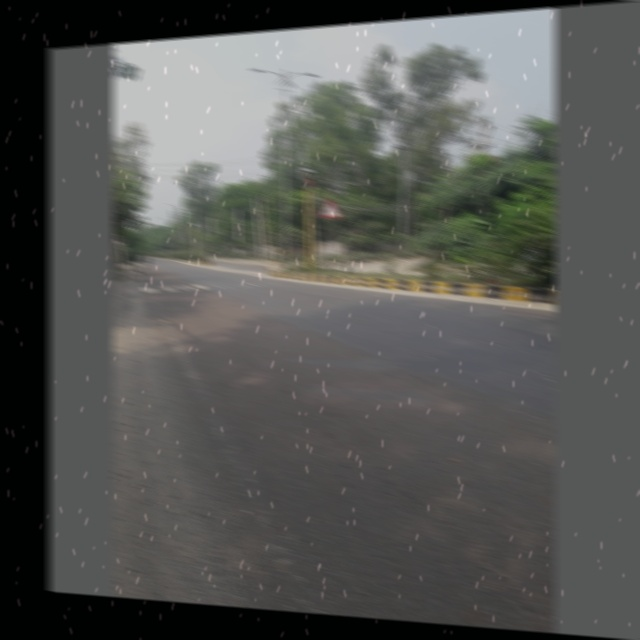Gap_in_Median: (319, 195, 341, 220)
